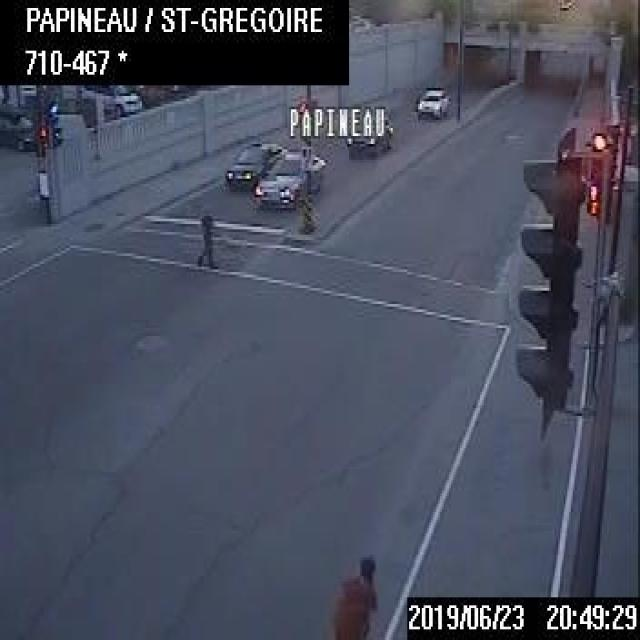cyclist: (329, 552, 378, 637)
pedestrian: (197, 211, 214, 269)
vehicle: (251, 143, 331, 213), (223, 136, 280, 208), (76, 82, 149, 122), (343, 118, 392, 158), (0, 106, 45, 146), (413, 86, 451, 118)
